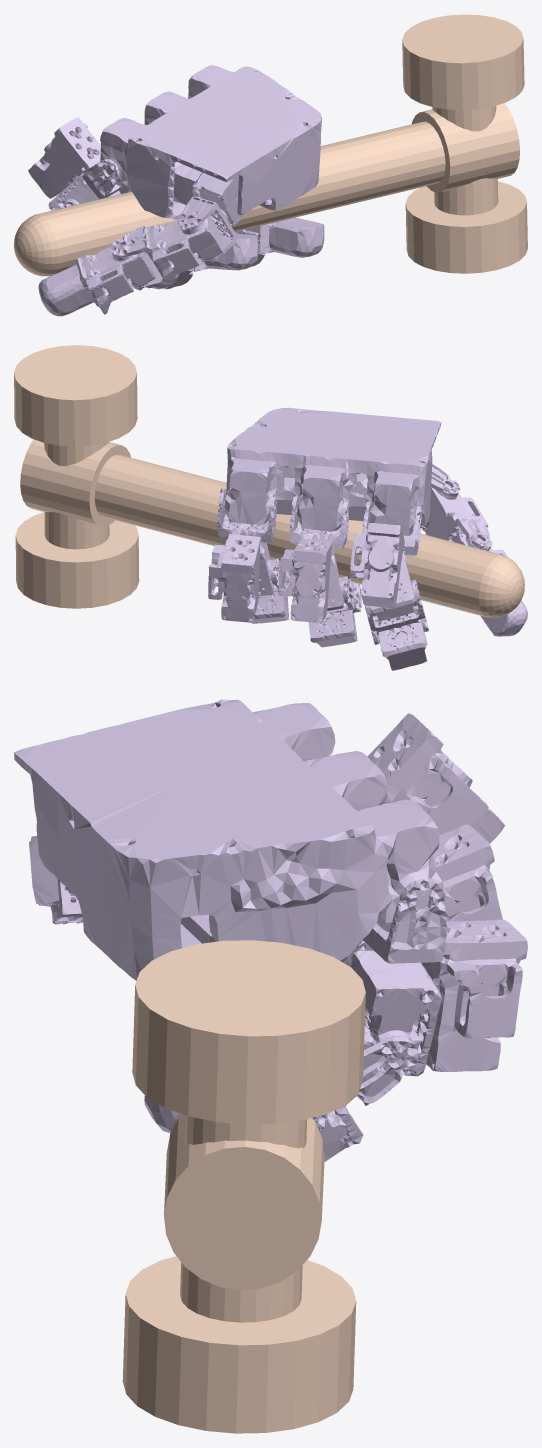
File: 9e6bddeaee2b47-closed.glb
The picture shows the model from 3 angles, top to bottom: view 1: azimuth 30°, elevation 25°; view 2: azimuth 150°, elevation 25°; view 3: azimuth 270°, elevation 25°; orthographic projection. The views are drawn at different scales.
Visible parts, largest first — view 1: LEAP_hand, world; view 2: LEAP_hand, world; view 3: LEAP_hand, world.
Boxes of the visible parts, x1,y1,x2,y2 form: LEAP_hand: (28,64,324,316); world: (14,14,527,276); LEAP_hand: (208,407,527,670); world: (14,345,524,617); LEAP_hand: (14,699,527,1161); world: (122,940,365,1433).
Bounding box in the file's own units: 0.3583 × 0.1462 × 0.1693.
